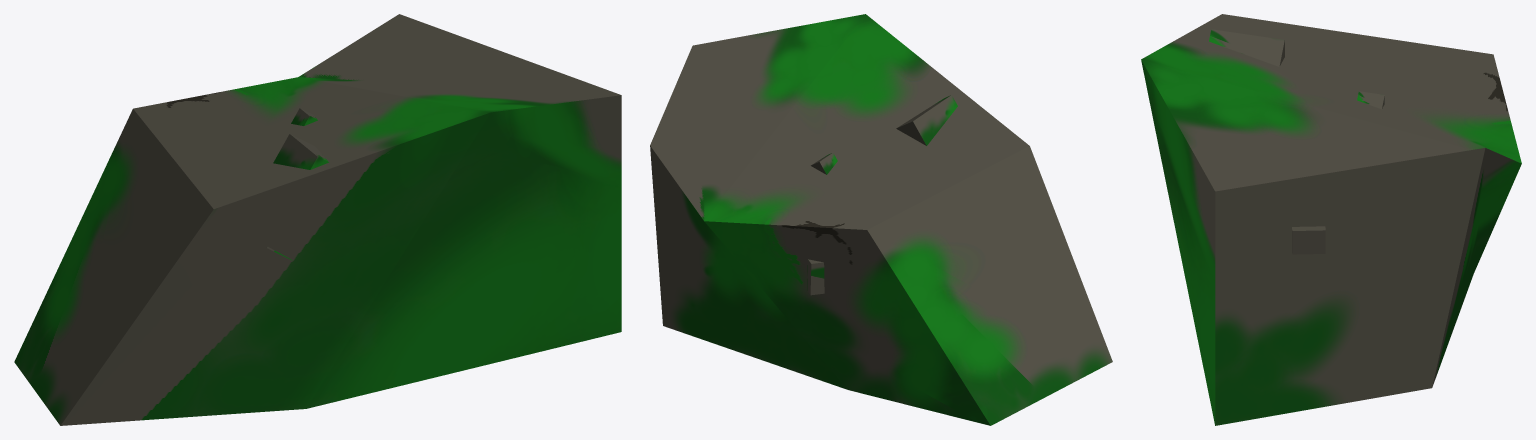
File: Rock1.glb
3 renders of one model, left to right at view 1: azimuth 30°, elevation 25°; view 2: azimuth 150°, elevation 25°; view 3: azimuth 270°, elevation 25°, orthographic. The views are drawn at different scales.
Parts seen in each view (by area): view 1: Cube; view 2: Cube; view 3: Cube.
Boxes of the visible parts, x1=… form: Cube: x1=14, y1=14, x2=621, y2=425; Cube: x1=650, y1=14, x2=1112, y2=425; Cube: x1=1141, y1=14, x2=1521, y2=425.
Bounding box in the file's own units: 8.42 × 4.45 × 5.29.
1 material, 1 textured.
